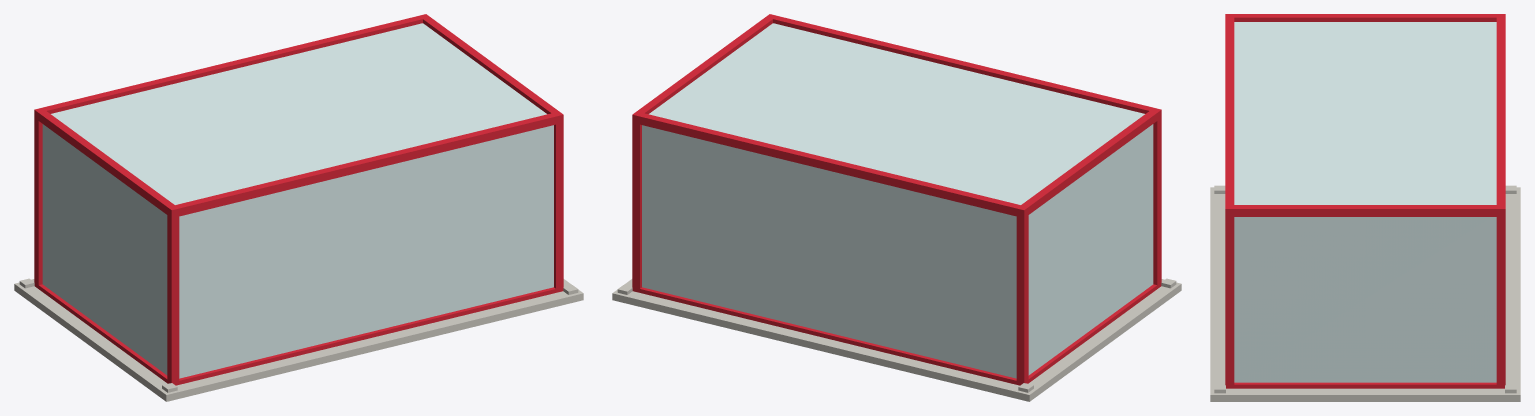
Rendered from extreme-offroad-rc.glb.
3 views of the same model, side by side, from view 1: azimuth 30°, elevation 25°; view 2: azimuth 150°, elevation 25°; view 3: azimuth 270°, elevation 25° (orthographic).
Size of the model in its own units: 0.38 by 0.1595 by 0.24.
